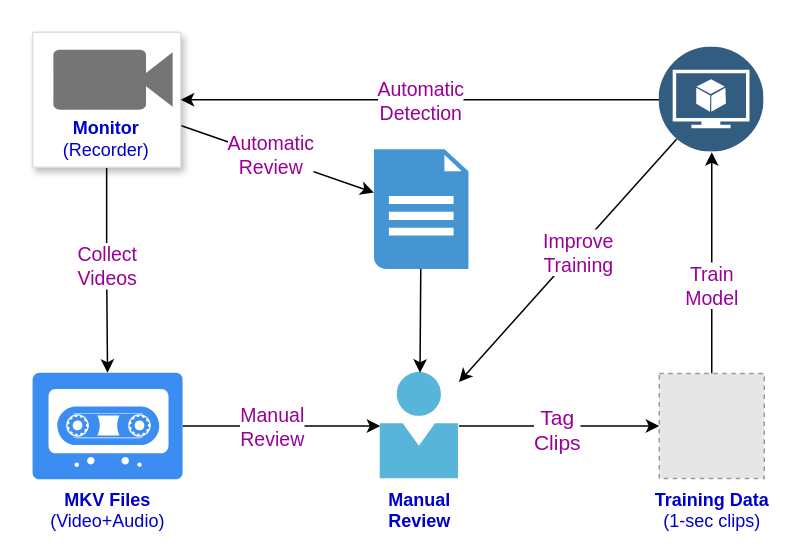
Image size: 798x560. Some labels were removed from this diagram. Grey dashed boxes stand in for pictures. The shapes that lost their labels are listed below. From the top down, each one's centre as x and y in pixels, then its label:
point (711, 99): Trained Model (& sample)
point (420, 208): Final Report (& Sav ed MKV)
